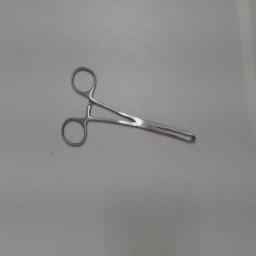Allis Tissue Forceps: (58, 60, 202, 154)
